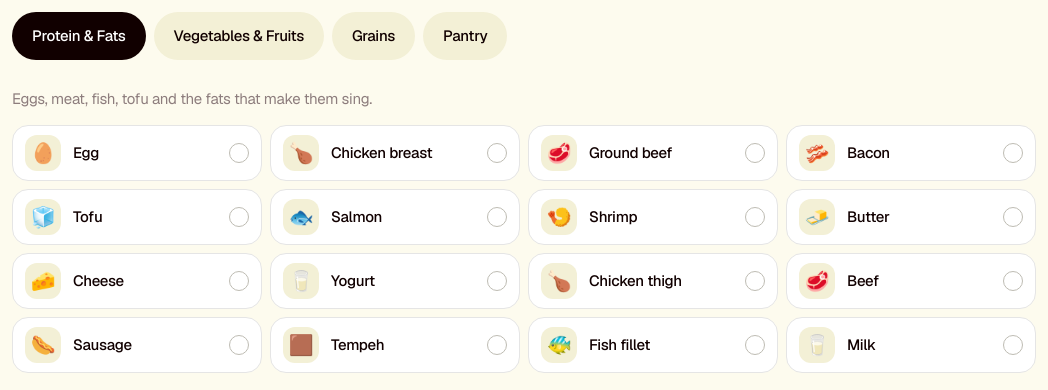
Test case: IngredientPicker › switches panels by click and by arrow keys
The width and height of the screenshot is (1048, 390).
Click the tab "Grains": (373, 36) [332,12,415,60]
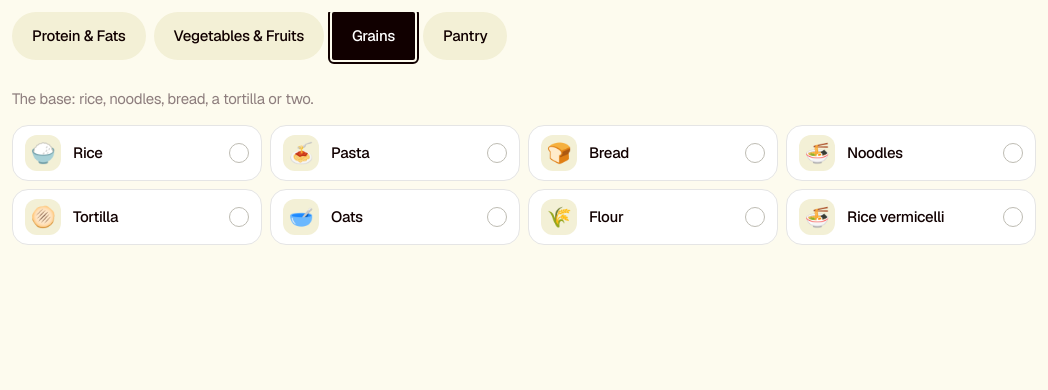
Result: the button "🍚 Rice ✓" is shown at [12,125,262,181]
Press Arrowright
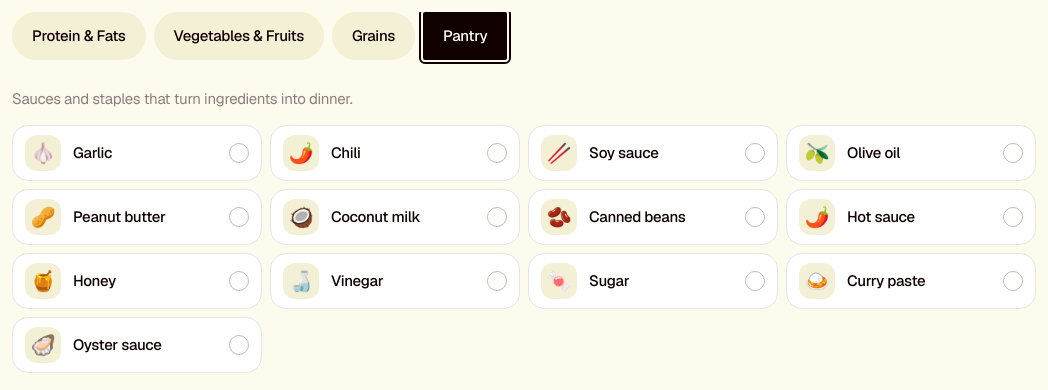
Result: the button "🥜 Peanut butter ✓" is shown at [12,189,262,245]
